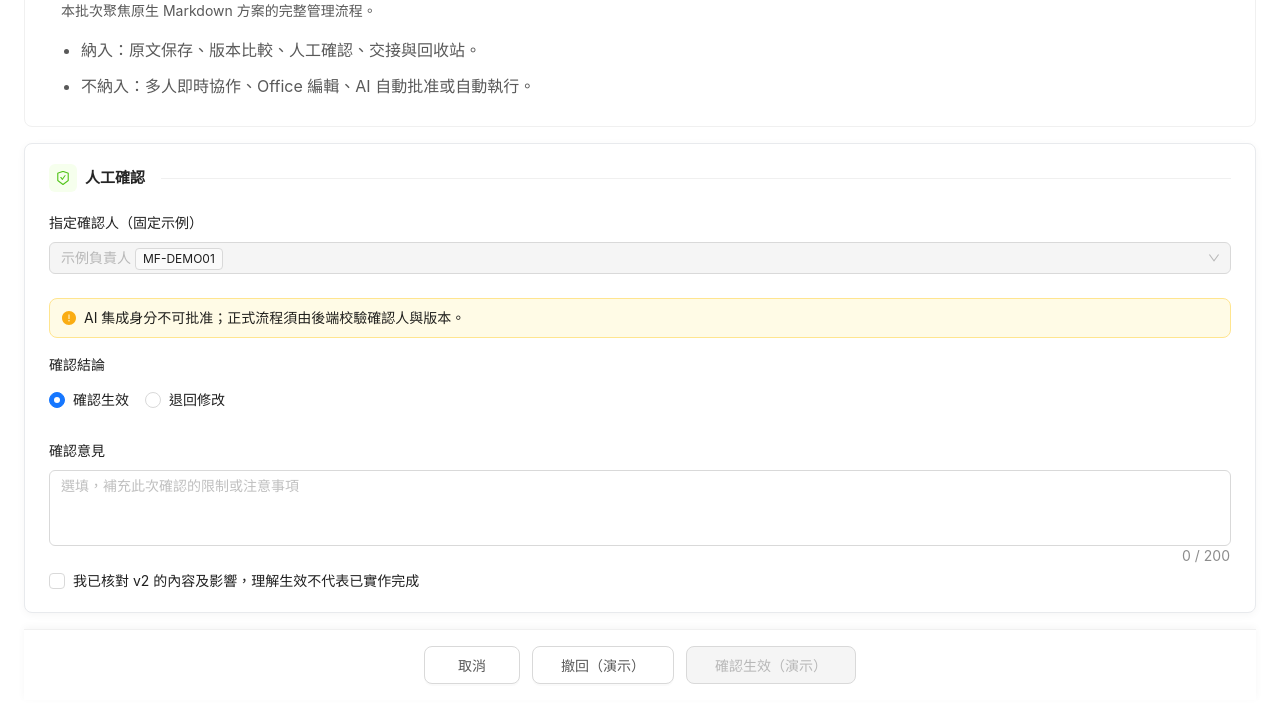
Test: 文档中心第一阶段隔离预览 › 确认需要核对勾选和二次确认，生效版更新但执行基线保持 v1
The width and height of the screenshot is (1280, 719).
(page scrolled)
Expected: the button "確認生效（演示）" is disabled, [686,646,856,684]
What coordinates should you click on to do the following:
click the checkbox labelled "我已核對 v2 的內容及影響，理解生效不代表已實作完成"
I would click on:
 (238, 581)
Its box is [49,570,427,592].
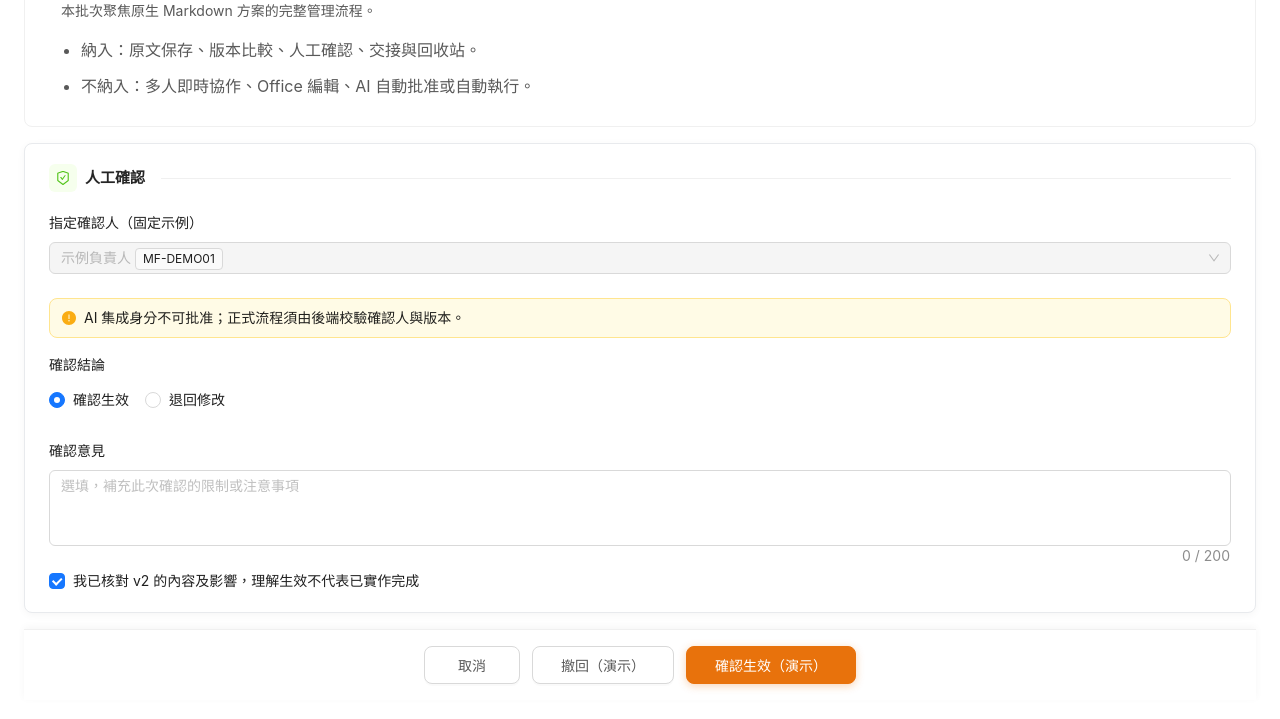
What coordinates should you click on to do the following:
click the button "確認生效（演示）"
I would click on:
 (771, 665)
Its box is [686,646,856,684].
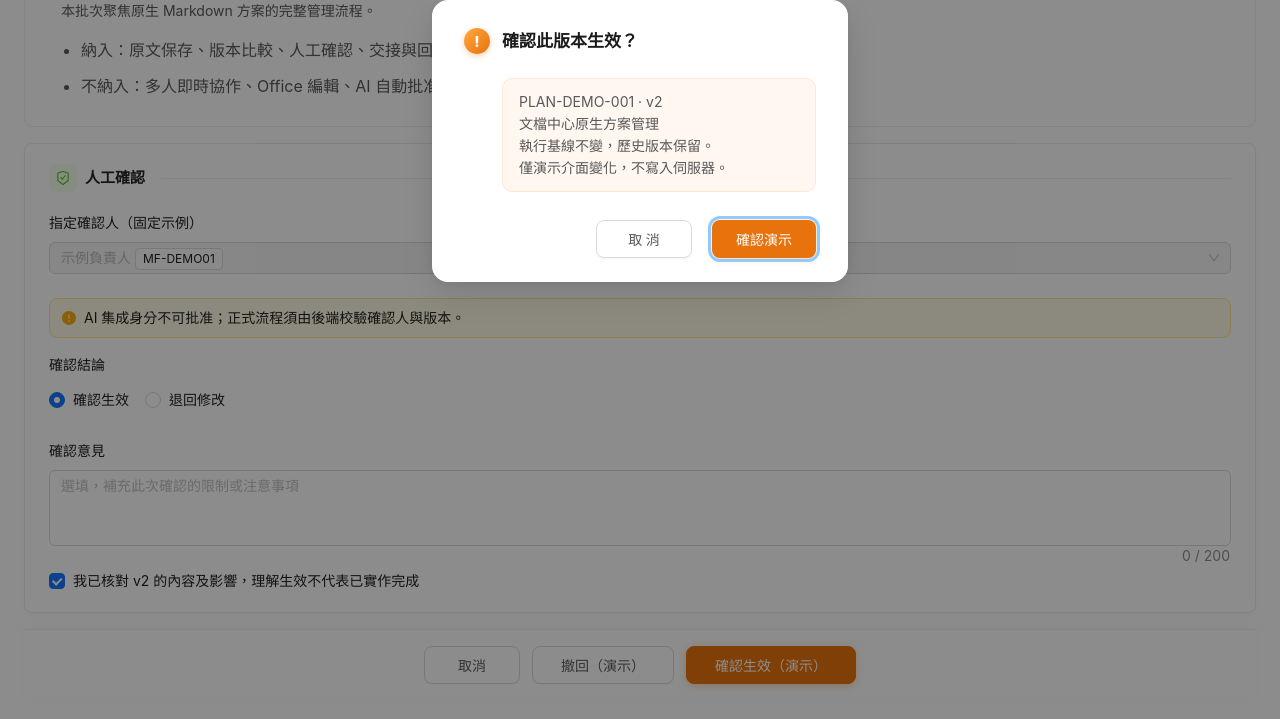
What coordinates should you click on to do the following:
click the button "確認演示"
I would click on:
 (764, 239)
Its box is [712,220,816,258].
(page scrolled)
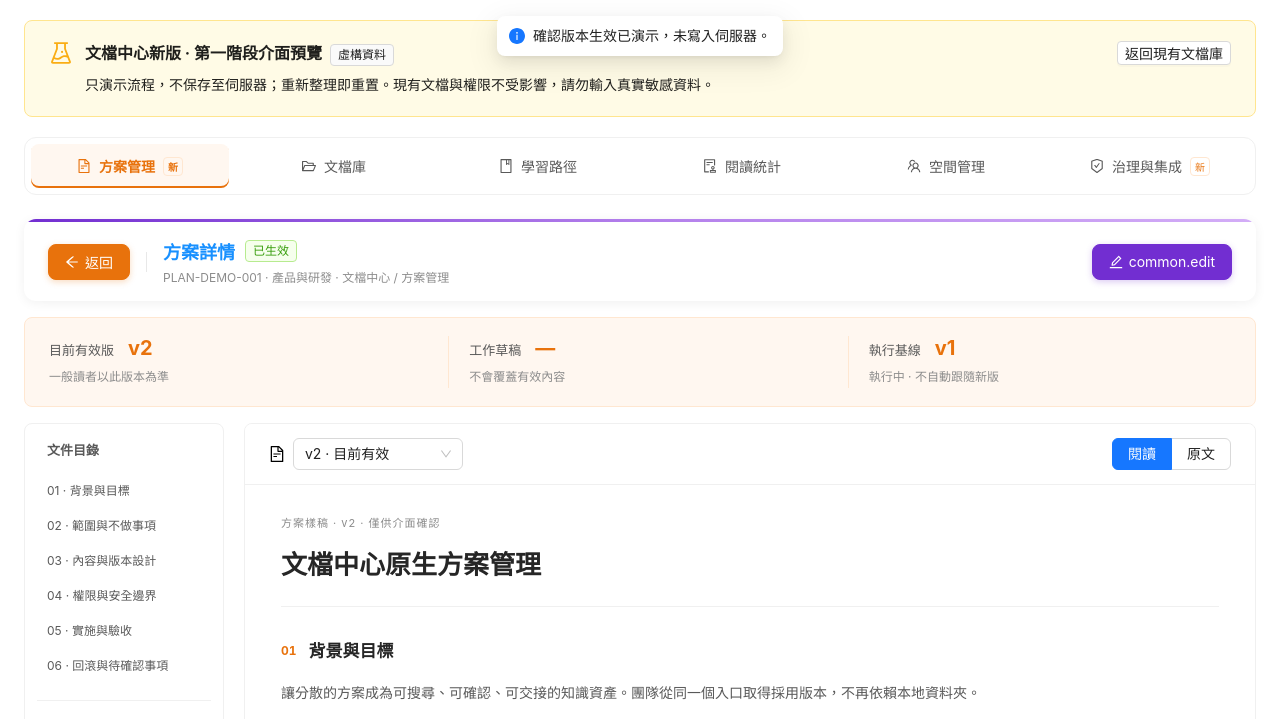
Expected: the dialog is gone
Expected: the heading "方案詳情" is shown, [163,238,235,264]
Expected: the text "v2" is shown, [128,336,153,360]
